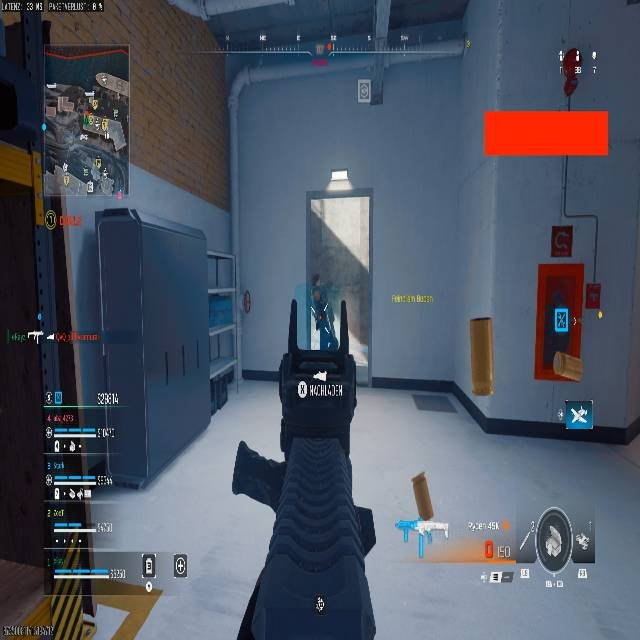player: (230, 308, 382, 636)
